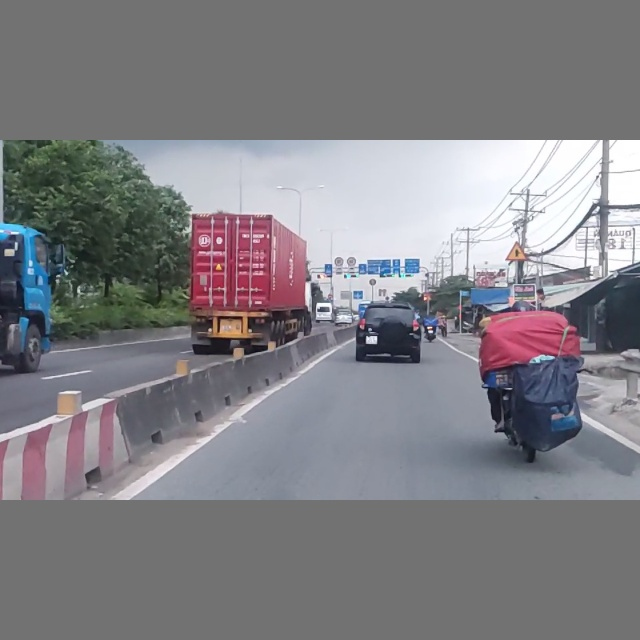W.207: (505, 241, 529, 261)
